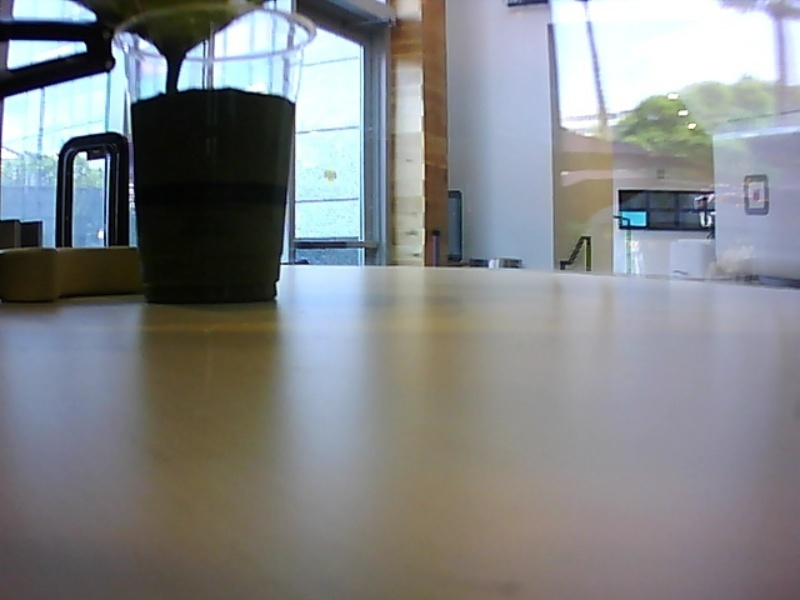cup: (107, 1, 320, 305)
limit: (123, 79, 300, 113)
